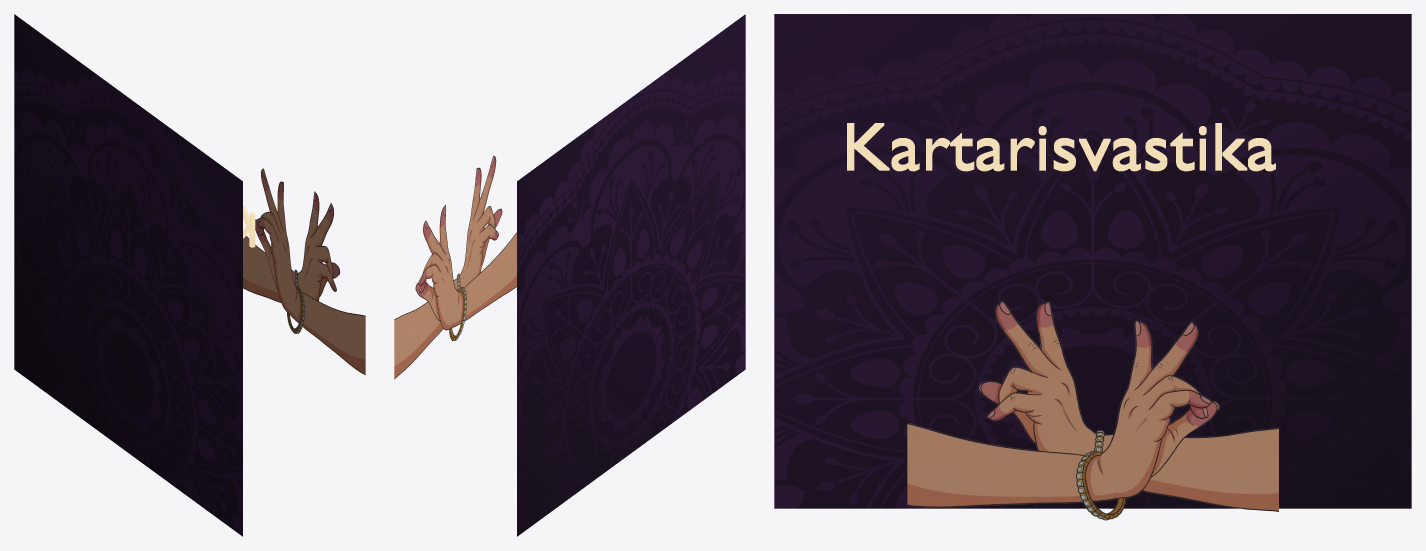
File: Kartarisvastika.glb
3 views of the same model, side by side, from view 1: azimuth 30°, elevation 25°; view 2: azimuth 150°, elevation 25°; view 3: azimuth 270°, elevation 25° (orthographic). The views are drawn at different scales.
Visible parts, largest first — view 1: Plane.008, Anjali.008; view 2: Plane.008, Anjali.008; view 3: Plane.008, Anjali.008, Text.030.
Boxes of the visible parts, x1,y1,x2,y2 form: Plane.008: [14, 14, 242, 536]; Anjali.008: [243, 168, 365, 374]; Plane.008: [517, 14, 745, 536]; Anjali.008: [394, 155, 516, 379]; Plane.008: [774, 14, 1411, 508]; Anjali.008: [907, 301, 1278, 520]; Text.030: [847, 123, 1275, 171].
Bounding box in the file's own units: 1.53 × 3.05 × 3.56.
Materials: 3 (2 with a texture image).
